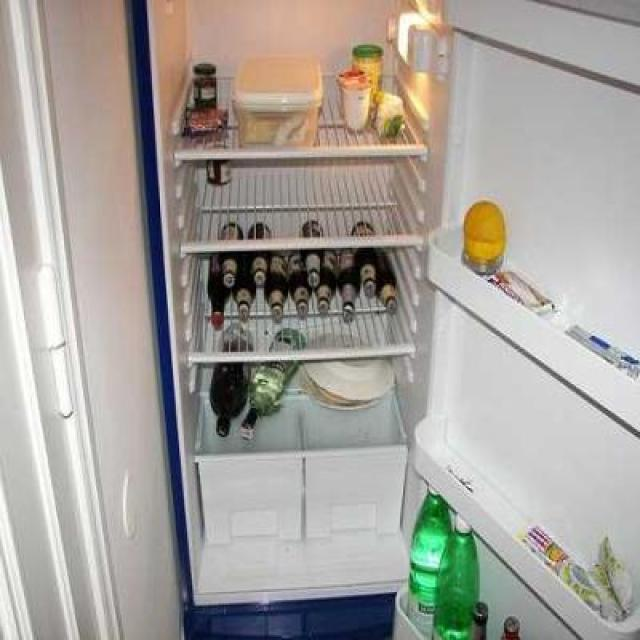refrigerator: (147, 2, 475, 596)
